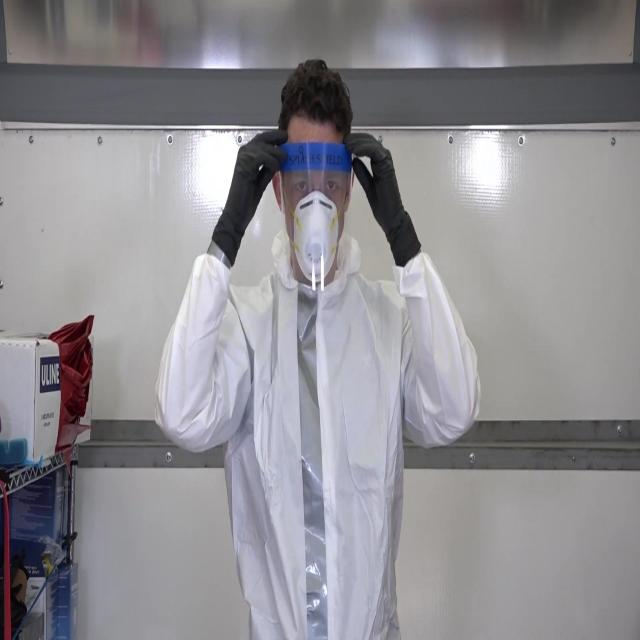Face_Shield: (273, 138, 356, 305)
Gloves: (211, 128, 288, 267), (342, 131, 420, 265)
